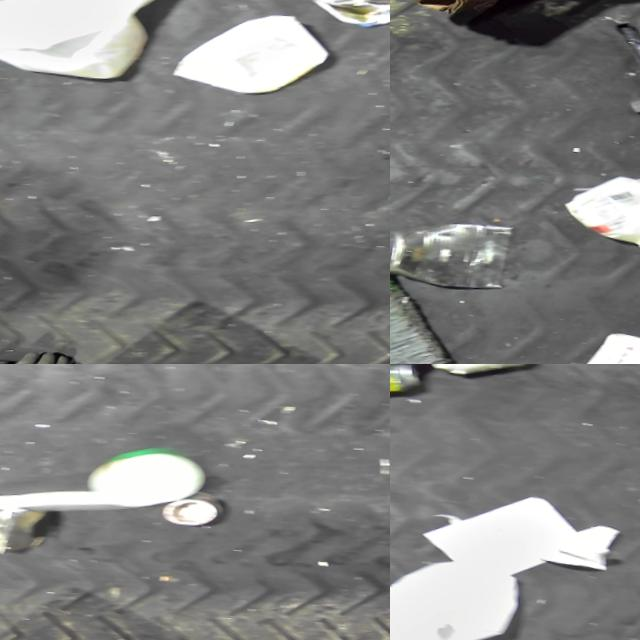can: (390, 216, 523, 297), (0, 503, 55, 559), (164, 491, 231, 533), (390, 364, 427, 403)
milk_jug: (0, 0, 155, 88), (390, 552, 528, 640), (0, 0, 181, 64)
